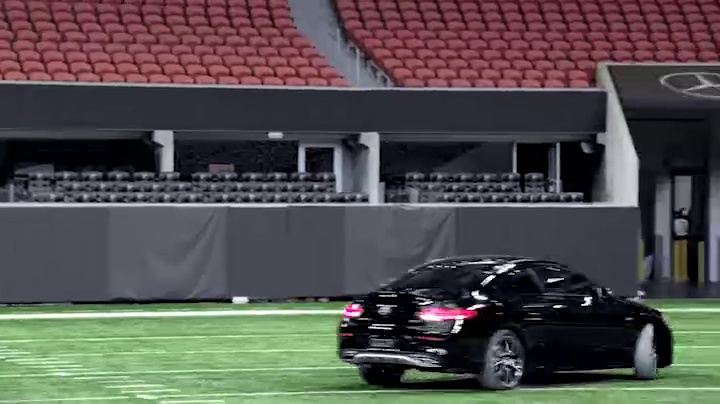amg: (332, 251, 681, 390)
